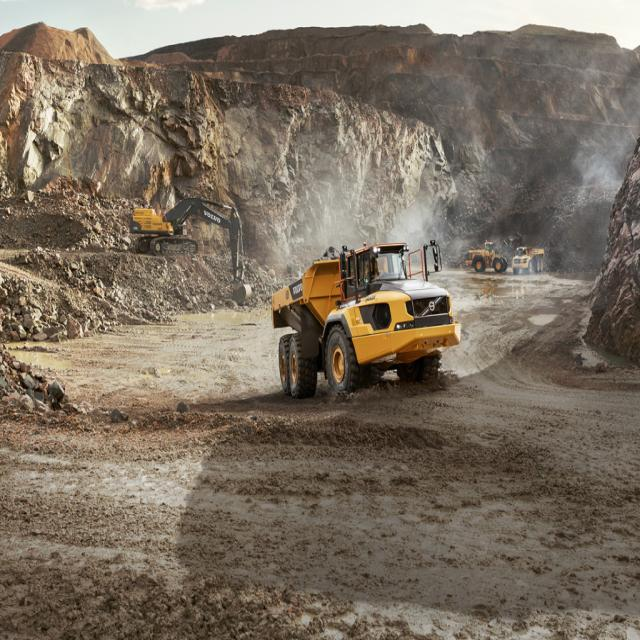buldozerpayloadergrader: (466, 228, 520, 278)
dump_truck: (265, 239, 463, 405), (509, 242, 552, 277)
excavator: (129, 178, 259, 313)
